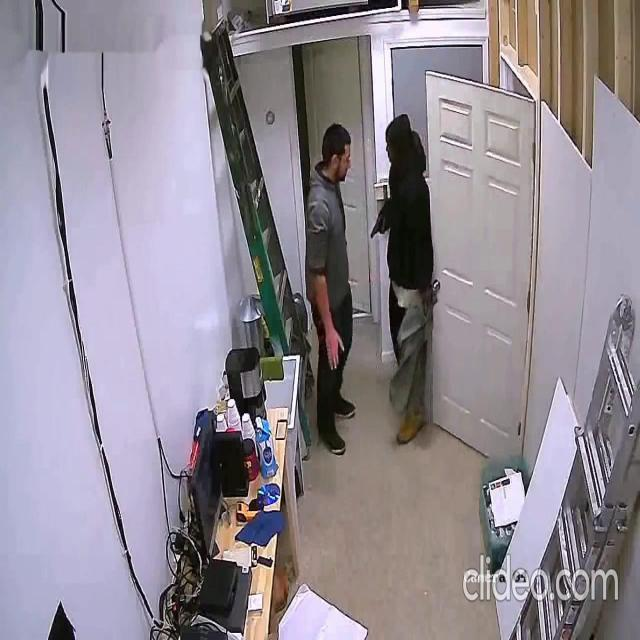pistol: (371, 209, 382, 239)
